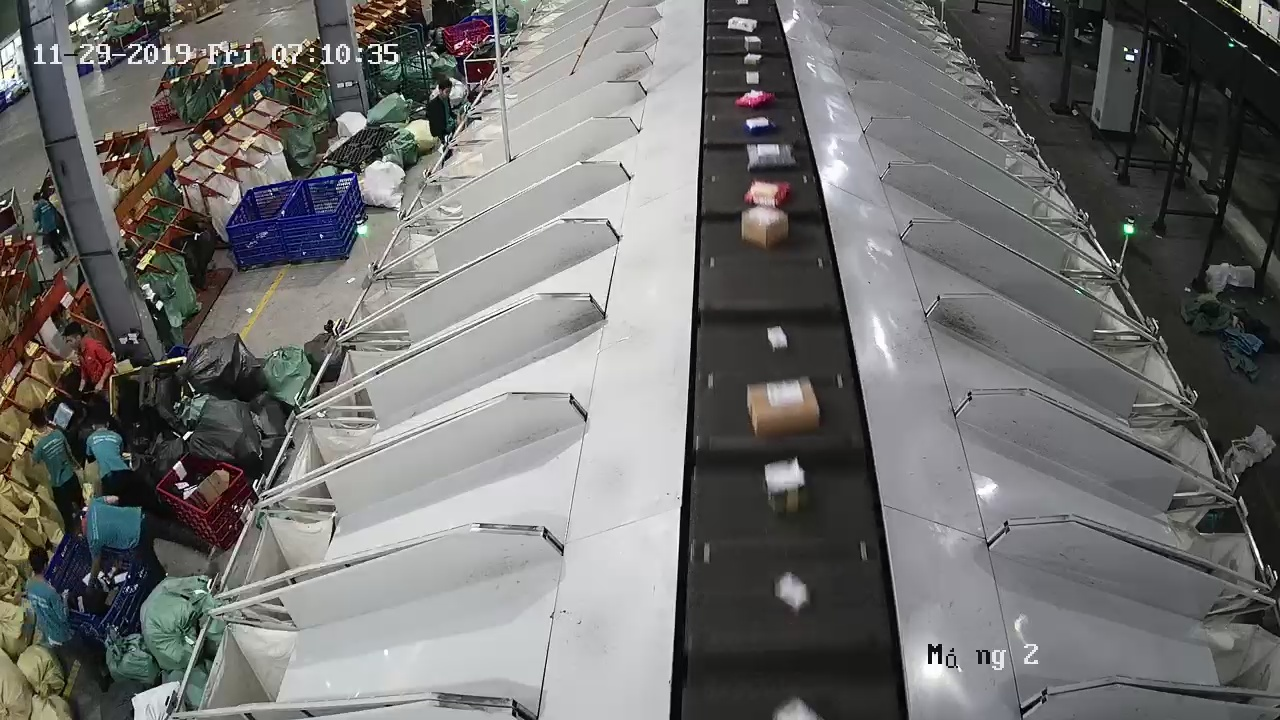parcel: (746, 376, 820, 438), (765, 457, 805, 513), (741, 206, 789, 249), (774, 571, 810, 616), (746, 142, 797, 172), (745, 180, 793, 207), (742, 115, 777, 137), (767, 325, 788, 353)
